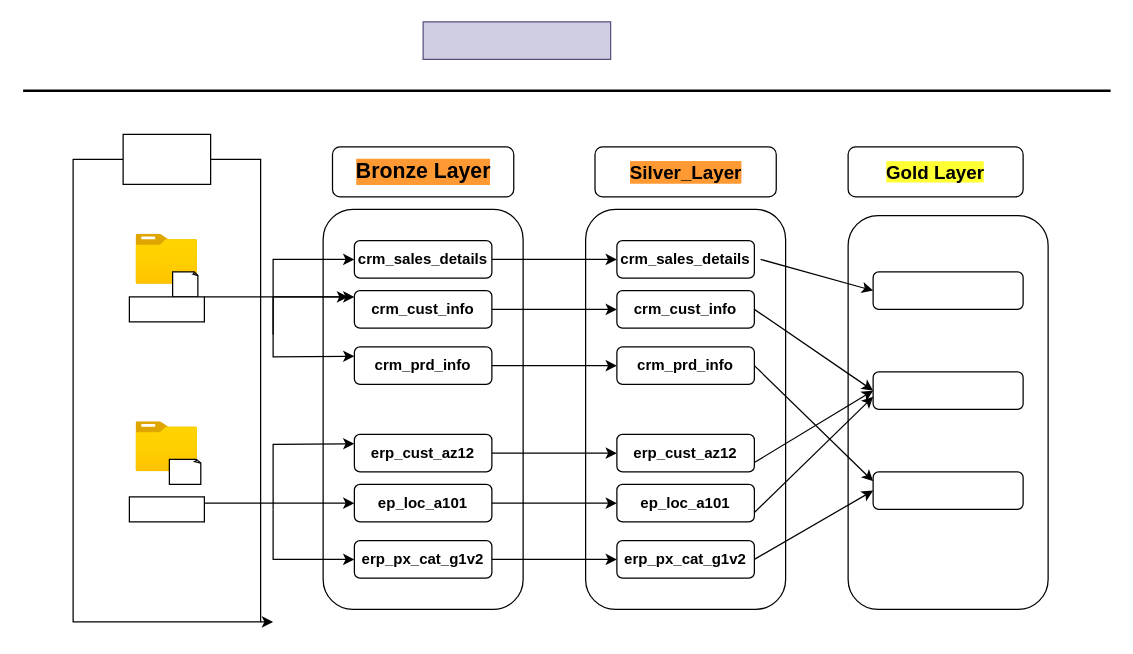
This 1133x654 diagram has some shape labels left out. The shapes that lost their labels are listed below. From the top down, each one's centre as x and y in pixels, then its label:
[516,40]: Data Flow
[166,158]: Source
[166,309]: CRM
[947,290]: fact_sales
[947,390]: dim_customer
[166,509]: ERP
[947,490]: dim_product
